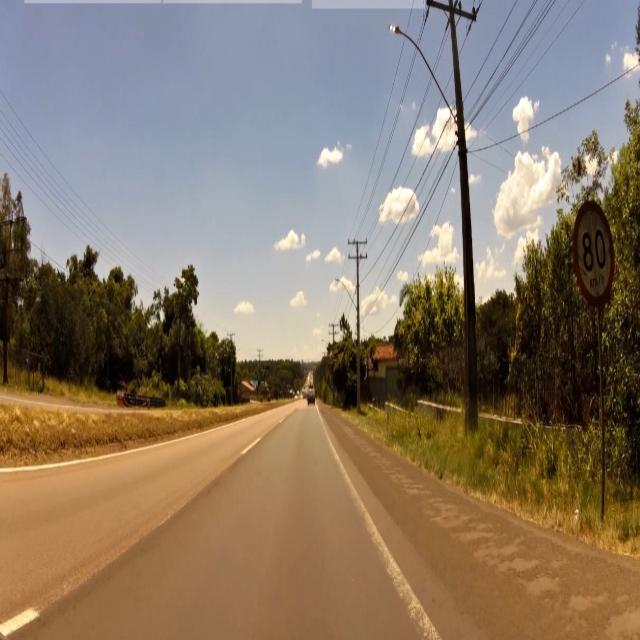R-19: (571, 201, 616, 311)
